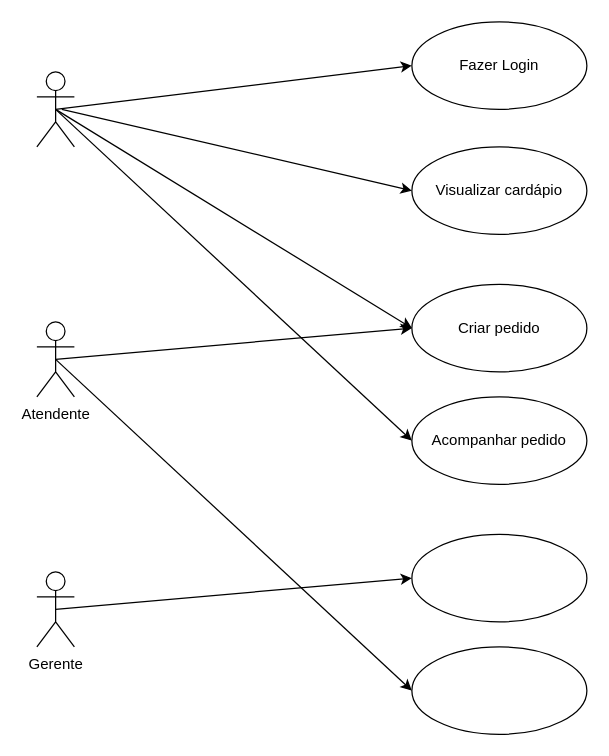
Image size: 609x756. Some labels were removed from this diagram. Each missing label, with the centre of its shape:
Cliente: the point at 55,109
Gerenciar unidades: the point at 499,577
Simular pagamento: the point at 499,690
